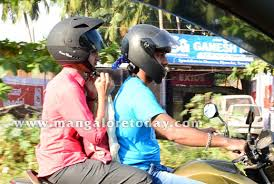helmet: (45, 15, 105, 77), (120, 20, 174, 87)
